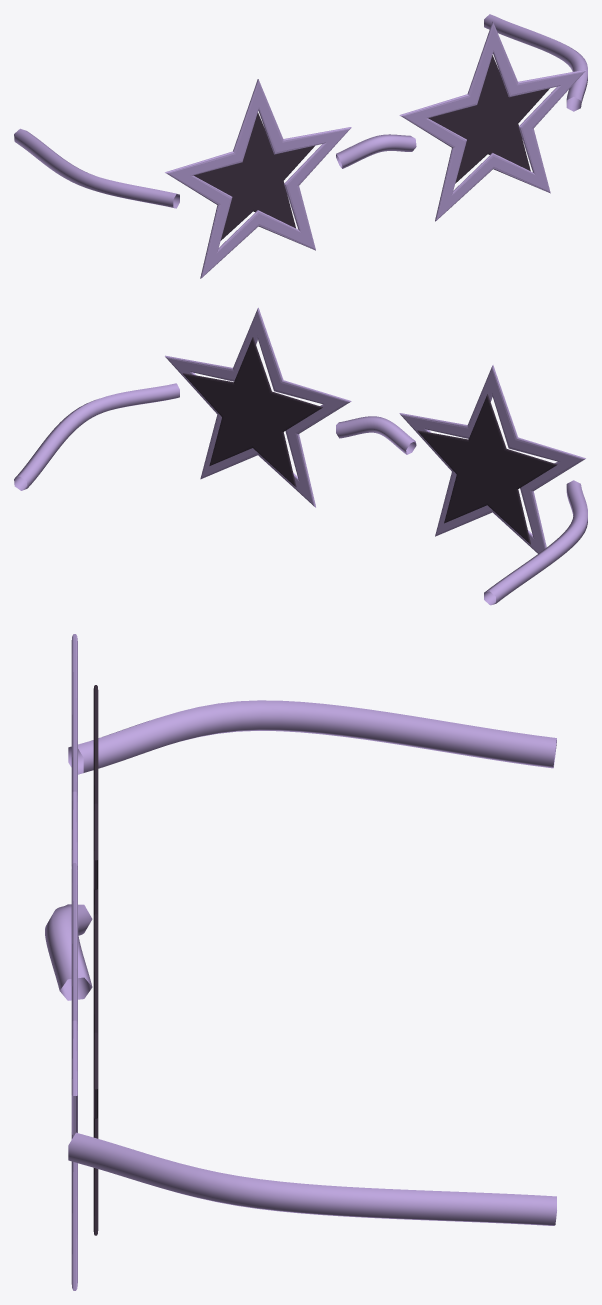
The model's file is glasses_star.glb.
3 views of the same model, one above another, from view 1: azimuth 30°, elevation 25°; view 2: azimuth 150°, elevation 25°; view 3: azimuth 270°, elevation 25° (orthographic). The views are drawn at different scales.
Parts seen in each view (by area): view 1: Gafas estrella; view 2: Gafas estrella; view 3: Gafas estrella.
Part boxes in pixels (left/top/right/bottom): Gafas estrella: left=14, top=14, right=587, bottom=278; Gafas estrella: left=14, top=307, right=587, bottom=605; Gafas estrella: left=45, top=634, right=556, bottom=1290.
Size of the model in its own units: 0.5606 by 0.1967 by 0.2458.
